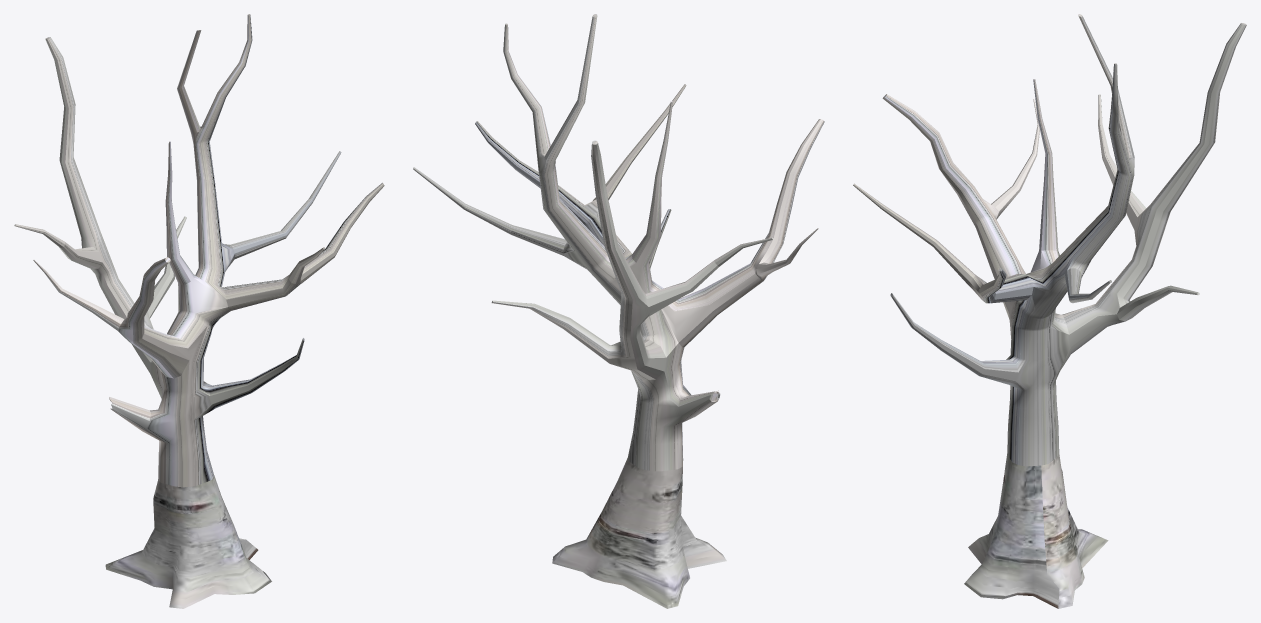
Rendered from BirchTree.fbx.
3 renders of one model, left to right at view 1: azimuth 30°, elevation 25°; view 2: azimuth 150°, elevation 25°; view 3: azimuth 270°, elevation 25°, orthographic. The views are drawn at different scales.
Visible parts, largest first — view 1: pCylinder1; view 2: pCylinder1; view 3: pCylinder1.
Boxes of the visible parts, <box> form: pCylinder1: <box>14,14,384,608</box>; pCylinder1: <box>413,14,824,608</box>; pCylinder1: <box>853,14,1246,608</box>.
Size of the model in its own units: 21.01 by 30.72 by 19.29.
